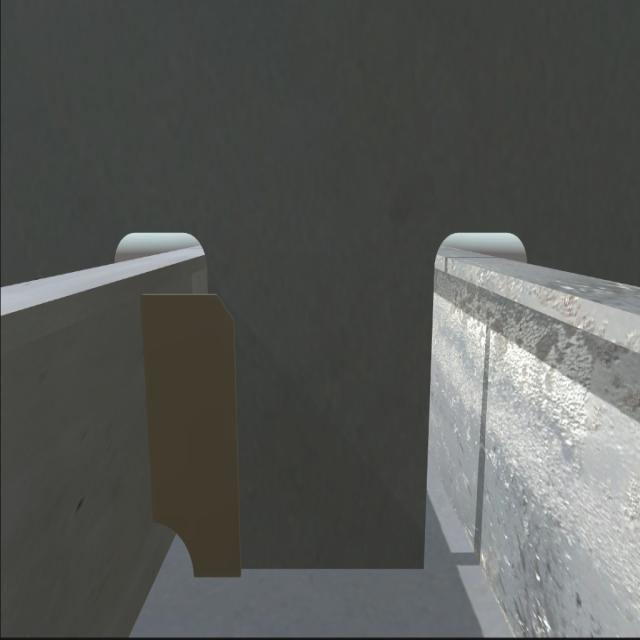fillet_hole: (152, 516, 196, 580)
fillet_yong_jeop_jang: (194, 550, 429, 586)
longi_yong_jeop_jang: (137, 293, 161, 530)
plate_CP03: (146, 300, 246, 578)
